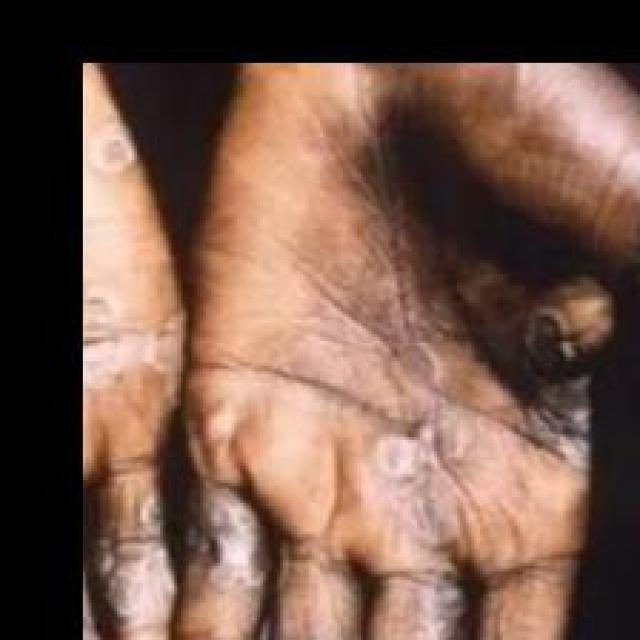monkeypox: (89, 57, 614, 640)
